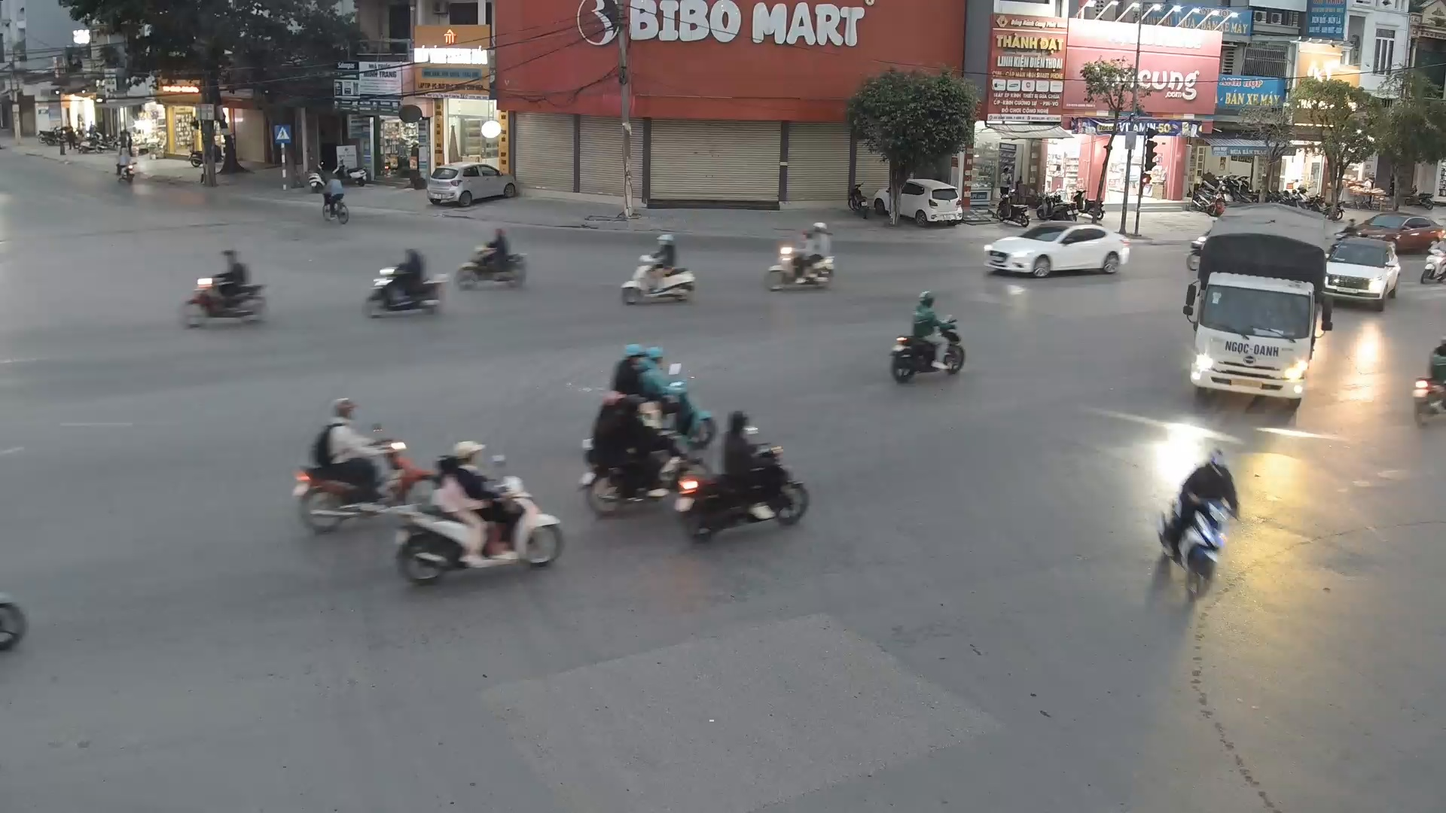car: (983, 219, 1129, 282), (1322, 229, 1404, 312)
motorbike: (391, 437, 567, 586), (290, 396, 432, 535), (675, 407, 811, 545), (577, 388, 694, 520), (602, 341, 720, 463), (1153, 446, 1241, 603), (176, 245, 272, 330), (886, 289, 969, 386), (361, 245, 446, 320), (617, 232, 700, 307), (761, 222, 838, 293), (452, 225, 532, 291), (0, 530, 29, 654), (1409, 334, 1445, 428)
truck: (1181, 207, 1334, 432)
